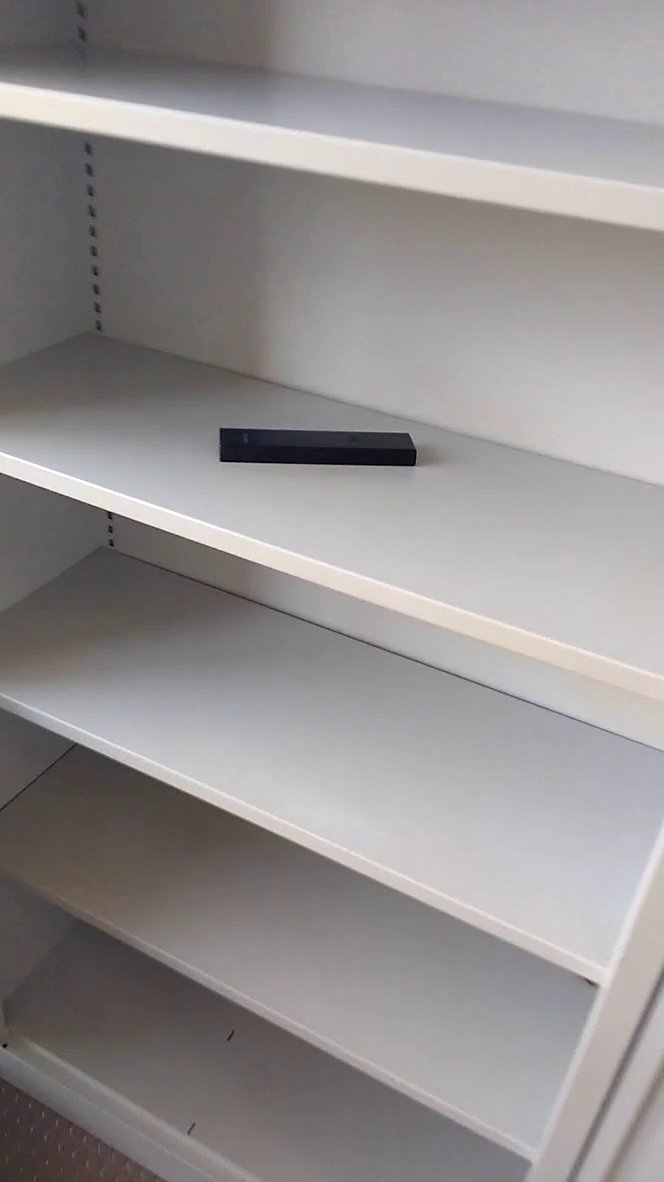remote: (214, 411, 435, 483)
